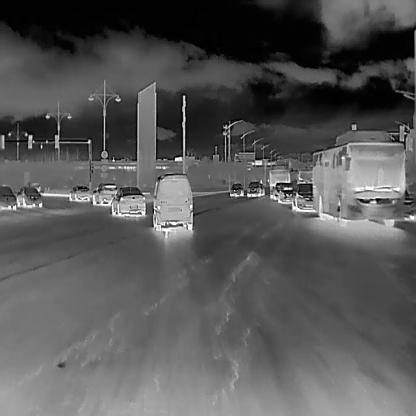car: (312, 138, 405, 228), (152, 173, 193, 232), (109, 184, 146, 216), (16, 185, 42, 208), (93, 182, 117, 206), (292, 182, 312, 210), (269, 170, 289, 197), (0, 183, 15, 210), (66, 186, 88, 202), (246, 180, 264, 196), (279, 183, 294, 202), (273, 181, 287, 201), (228, 182, 243, 196)
